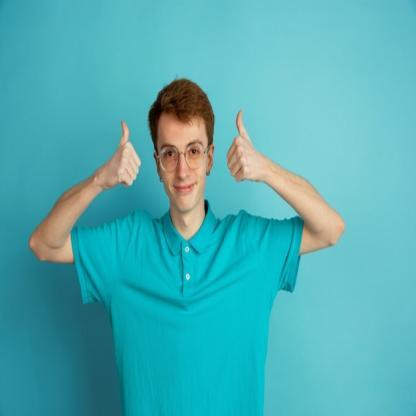thumb_up: (101, 120, 142, 192), (224, 110, 262, 184)
